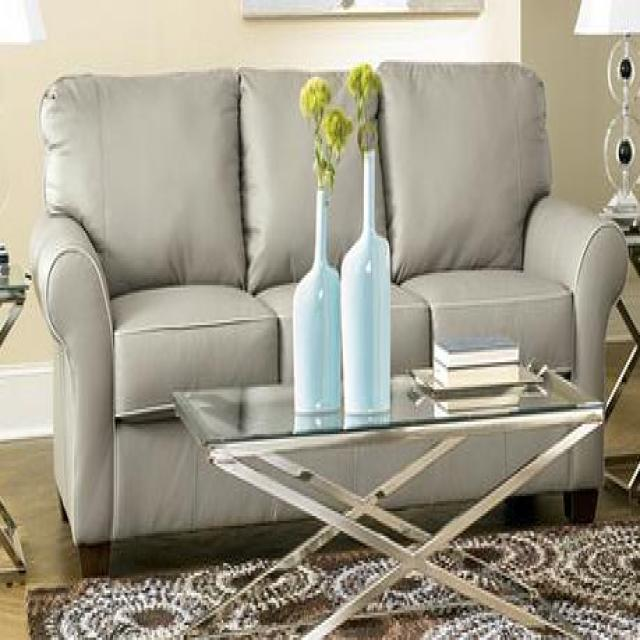sofa: (30, 58, 628, 570)
